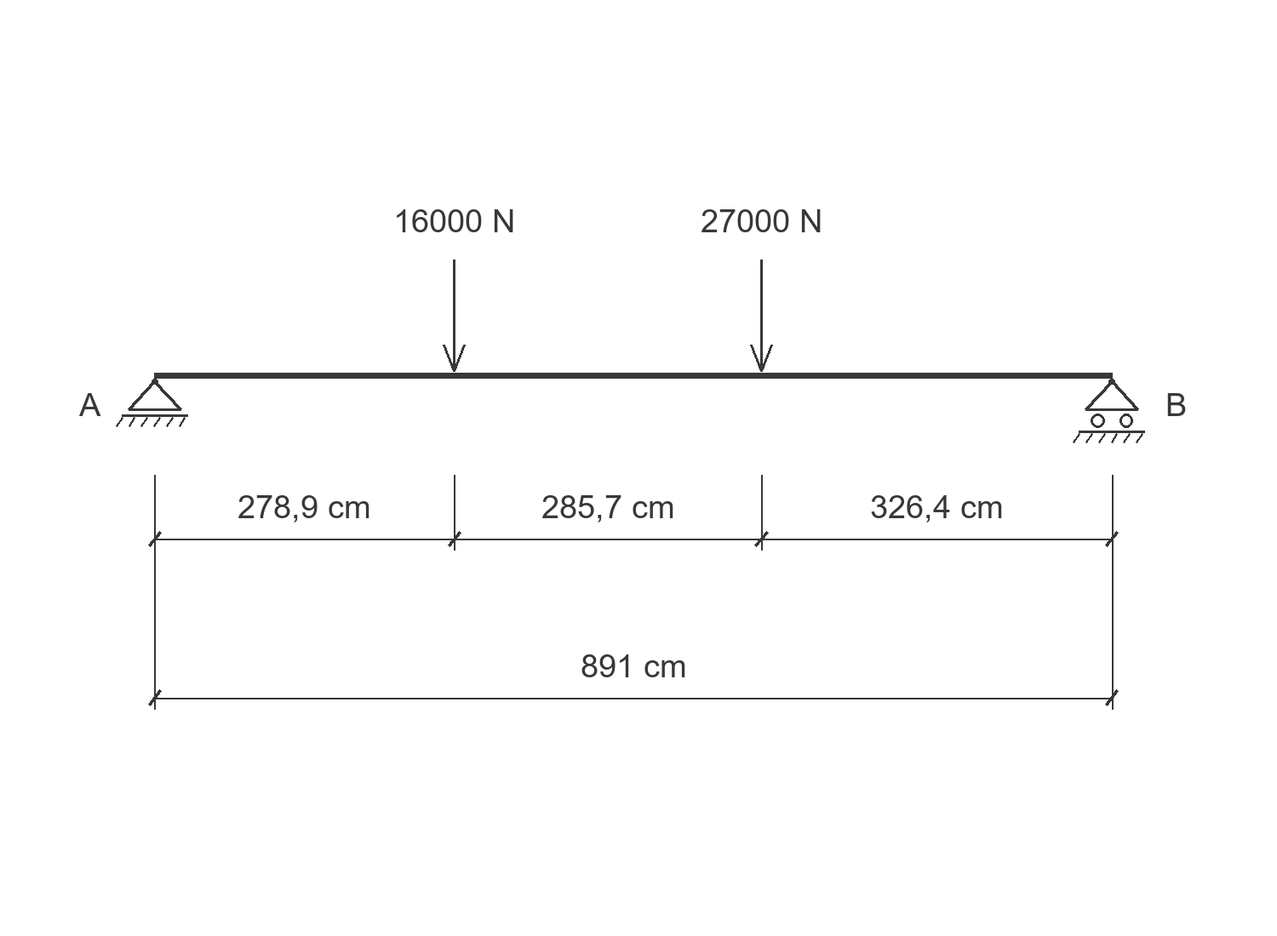pin_support: (116, 379, 188, 427)
point_load: (443, 260, 466, 372), (750, 260, 773, 372)
roller_support: (1073, 379, 1145, 443)
